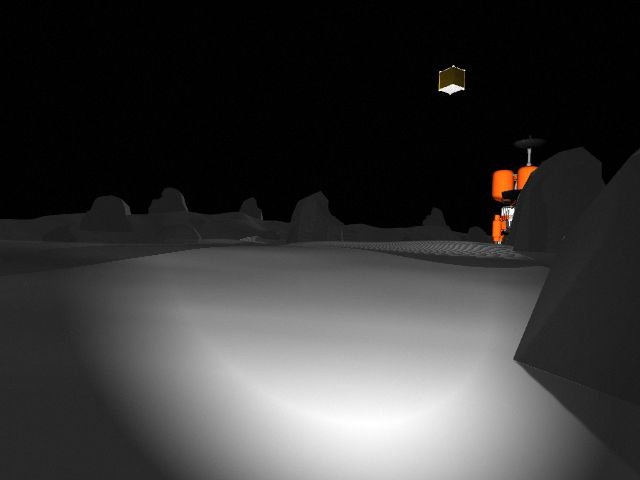cubesat: (432, 62, 471, 105)
